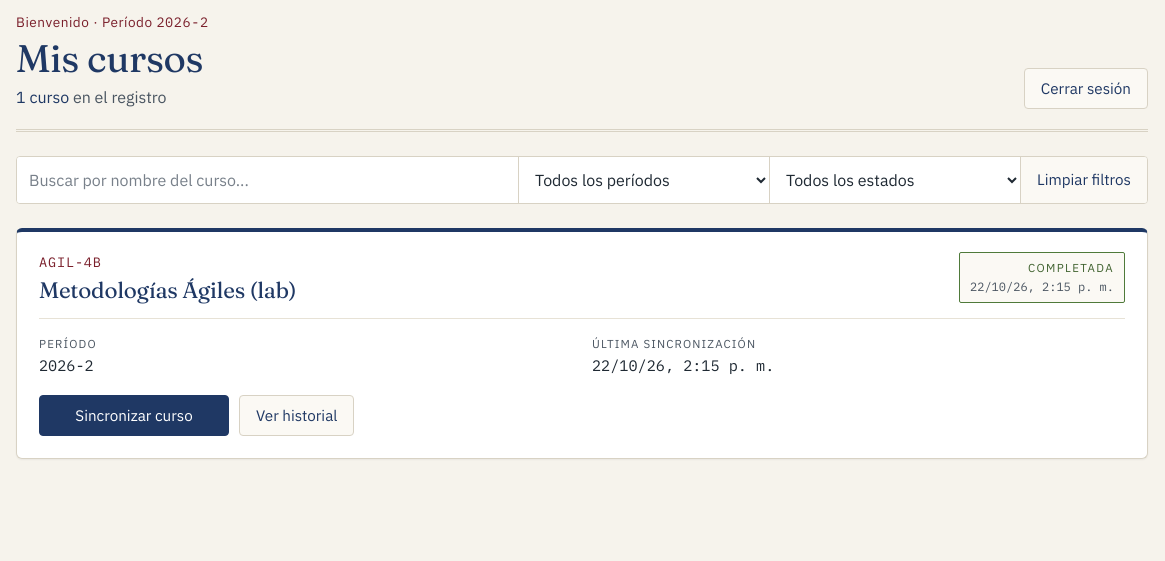
Test case: Mis cursos › muestra un mensaje cuando el curso no está asignado
Expected: the text "AGIL-4B" is shown, [39, 252, 102, 270]
Click the button "Sincronizar curso" at (134, 415), box [39, 395, 229, 436]
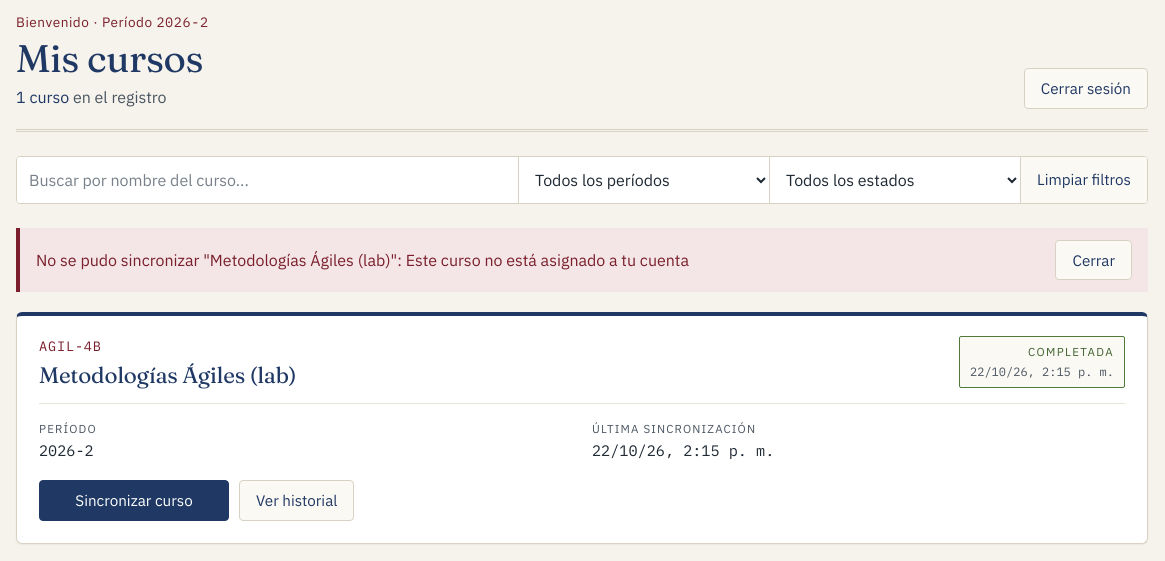
Result: the message shows "Este curso no está asignado a tu cuenta" at [36, 250, 689, 270]
